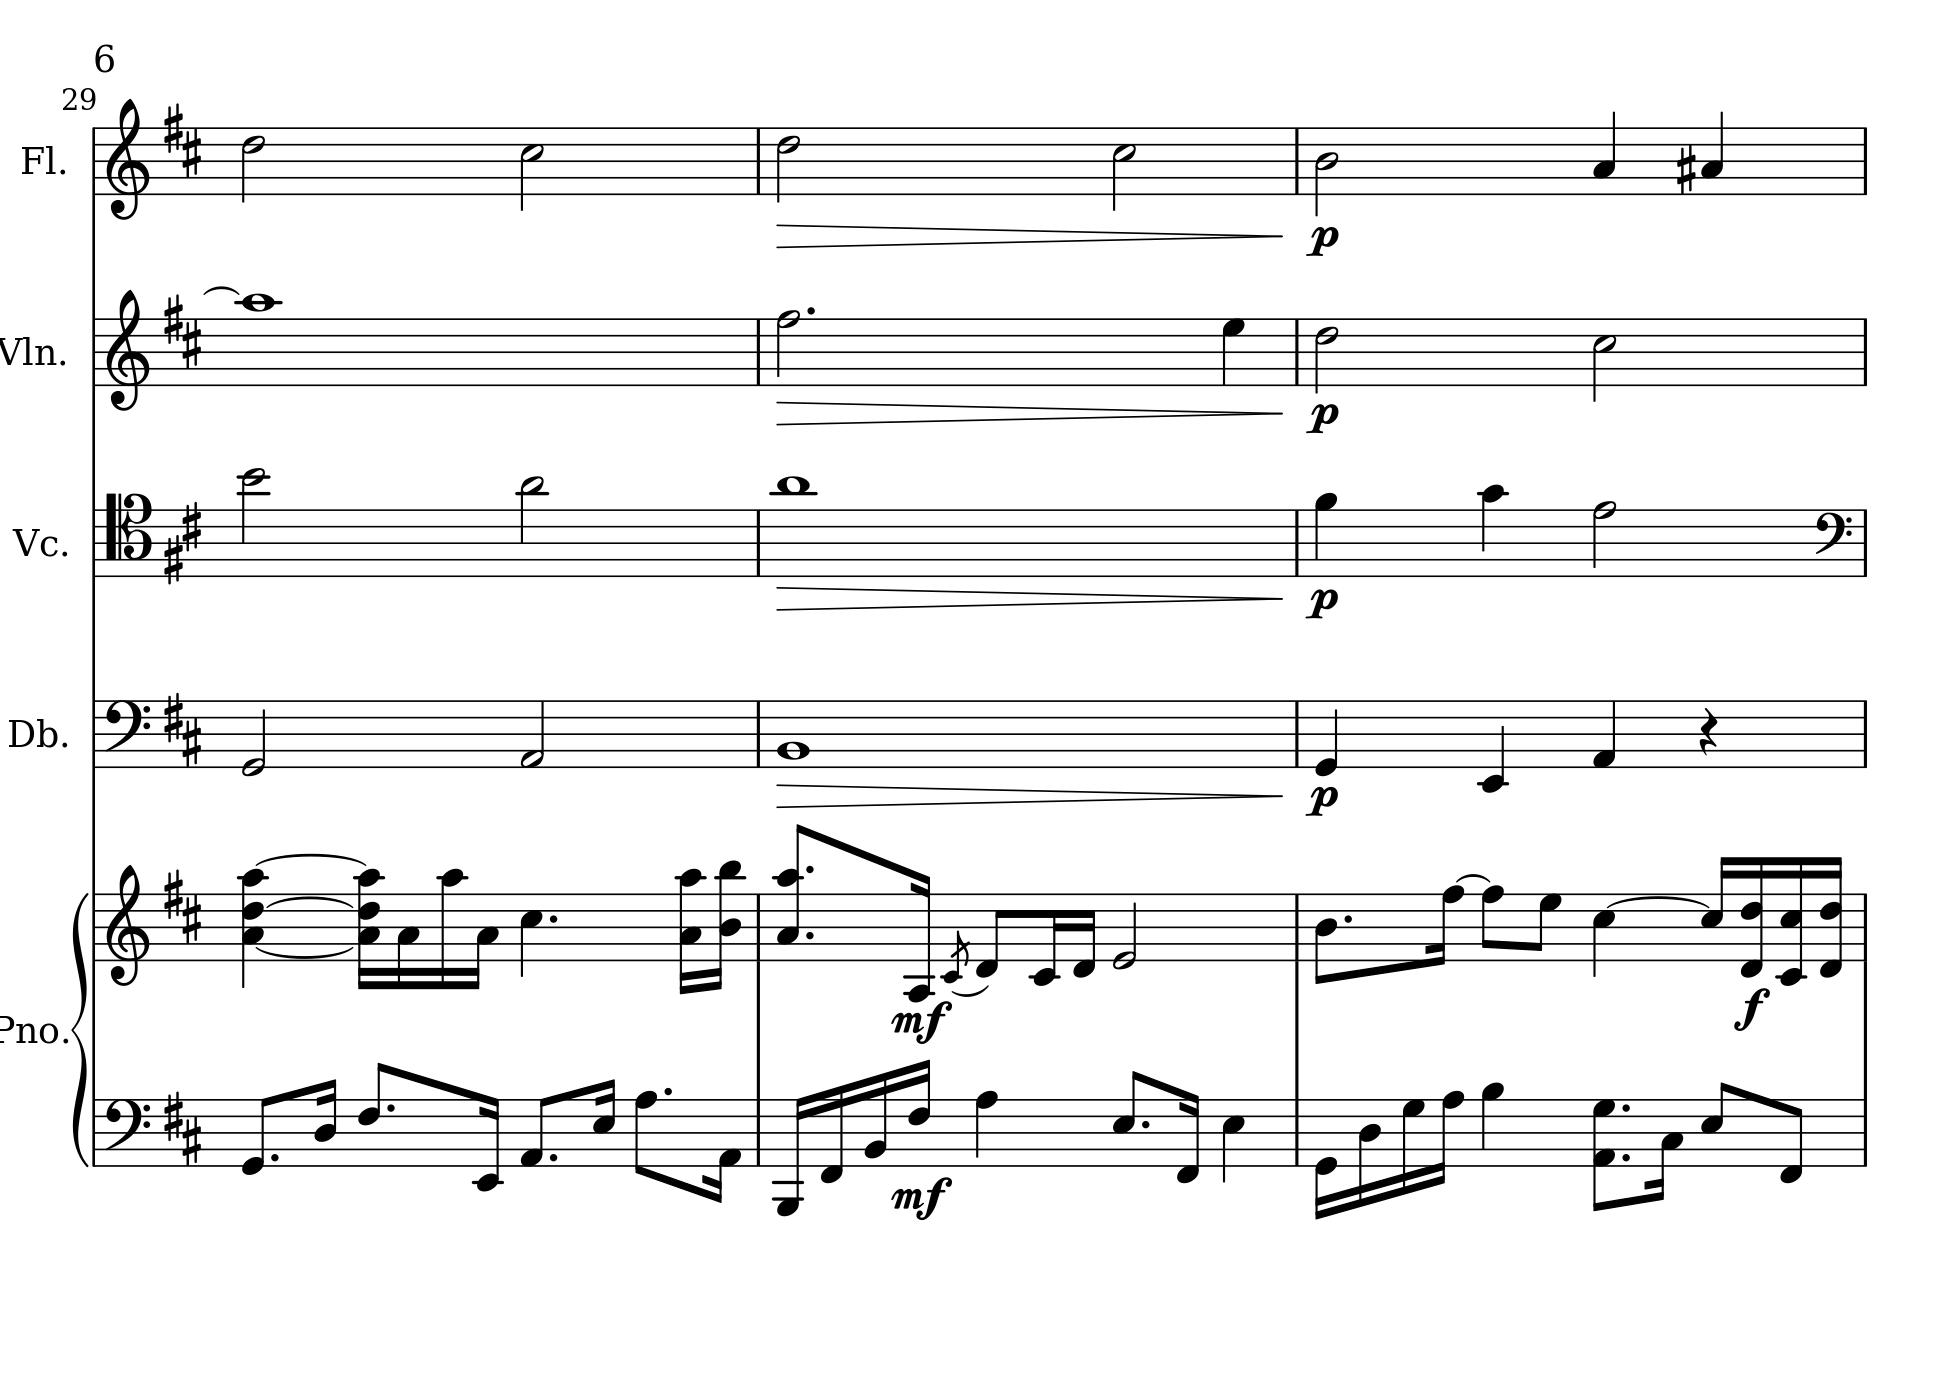16_-1: (817, 1081, 847, 1185), (1176, 1087, 1203, 1185), (1072, 891, 1098, 979)
16_-1_6: (1737, 856, 1767, 979), (1818, 856, 1846, 976)
16_-2: (472, 1092, 502, 1192), (1030, 891, 1062, 985)
16_-2_5: (1773, 856, 1810, 988)
16_-4: (903, 871, 933, 1002)
16_0: (1314, 1095, 1339, 1219)
16_1: (705, 1096, 741, 1203)
16_10: (438, 864, 466, 991)
16_1_7: (1591, 1096, 1617, 1213)
16_2: (861, 1069, 889, 1167)
16_3: (1645, 1096, 1683, 1201), (469, 892, 499, 991), (394, 891, 420, 991)
16_3_10: (675, 865, 706, 994)
16_4: (1356, 1096, 1383, 1206), (312, 1077, 339, 1168)
16_4_11: (711, 859, 744, 988)
16_5: (1699, 856, 1731, 964), (591, 1075, 616, 1168)
16_6: (907, 1057, 933, 1168)
16_7: (1401, 1096, 1425, 1195)
16_8: (1431, 1090, 1464, 1186), (1428, 883, 1464, 967)
1_10: (238, 292, 277, 388)
1_11: (772, 474, 813, 577)
1_2: (774, 696, 811, 769)
2: (60, 85, 78, 111)
2_0: (1111, 889, 1140, 970), (240, 697, 267, 777)
2_1: (519, 697, 549, 772)
2_11: (517, 474, 547, 577)
2_12: (237, 465, 268, 577)
2_4: (1314, 124, 1339, 216)
2_5: (1110, 126, 1137, 213), (517, 126, 544, 211), (1591, 316, 1617, 403)
2_6: (775, 124, 802, 202), (1314, 316, 1341, 394), (240, 124, 265, 204)
2_8: (774, 307, 801, 388), (1591, 496, 1617, 577)
4_-2: (1479, 697, 1507, 793)
4_0: (1314, 697, 1341, 777)
4_1: (1591, 697, 1618, 769)
4_3: (1593, 109, 1618, 196), (1701, 109, 1726, 195)
4_5: (517, 889, 544, 979), (1591, 891, 1617, 979), (1221, 1096, 1245, 1183)
4_7: (1221, 316, 1248, 387)
4_8: (973, 1087, 999, 1168)
4_9: (1479, 1080, 1504, 1168), (1314, 490, 1339, 577)
4_th: (240, 862, 265, 990)
6: (94, 40, 115, 73)
8_-1: (973, 891, 1008, 979), (1777, 1096, 1806, 1186)
8_-5: (772, 1093, 808, 1216)
8_0: (238, 1093, 274, 1176)
8_1: (517, 1093, 553, 1168)
8_10: (1479, 481, 1506, 579)
8_3_10: (772, 822, 808, 963)
8_4: (1314, 891, 1339, 985)
8_5: (1111, 1069, 1144, 1168), (1701, 1078, 1731, 1168)
8_6: (355, 1059, 390, 1168)
8_7: (1530, 891, 1563, 961)
8_8: (633, 1087, 658, 1179), (1480, 883, 1506, 963)
9: (79, 85, 96, 111)
Brace: (70, 889, 88, 1165)
D_S: (162, 499, 202, 580), (163, 99, 202, 178), (162, 292, 202, 367), (163, 1090, 202, 1165)
Dbs: (4, 714, 57, 751)
Diminuendo_hairpin: (775, 399, 1284, 427), (777, 783, 1284, 811), (775, 586, 1284, 613), (777, 223, 1281, 250)
Fclef: (103, 697, 151, 769), (103, 1096, 151, 1167), (1812, 507, 1855, 577)
Fl: (16, 141, 58, 178)
Gclef: (103, 286, 150, 411), (103, 97, 148, 220), (103, 862, 148, 985)
Pno: (1, 1012, 58, 1048)
Rests4: (1698, 706, 1719, 757)
Sharp: (1674, 141, 1698, 195)
Single_barline: (1854, 126, 1875, 193), (1854, 316, 1873, 384), (750, 127, 768, 193), (751, 318, 769, 384), (750, 700, 768, 766), (750, 892, 766, 961), (1288, 1098, 1305, 1165), (1290, 318, 1306, 384), (750, 508, 766, 574), (1857, 700, 1873, 765), (88, 892, 103, 960), (1858, 892, 1873, 960), (1290, 894, 1305, 961), (88, 1098, 103, 1165), (751, 1098, 766, 1165), (1290, 127, 1305, 193), (1290, 508, 1305, 574), (1857, 508, 1872, 574), (1290, 700, 1305, 766), (1857, 1099, 1872, 1165), (87, 126, 100, 195), (87, 318, 100, 385), (88, 699, 102, 766), (87, 508, 100, 574)
Slur: (253, 850, 369, 867), (1606, 895, 1711, 907), (253, 945, 352, 957), (262, 895, 355, 907), (952, 982, 990, 996), (202, 283, 241, 295), (1455, 871, 1491, 883)
Tensor_Cclef: (103, 490, 151, 577)
Vc: (7, 523, 61, 556)
Vln: (1, 330, 57, 372)
dot: (544, 910, 559, 925), (802, 862, 816, 877), (1341, 910, 1354, 925), (804, 927, 817, 942), (384, 1099, 397, 1114), (1620, 1149, 1633, 1164), (804, 303, 817, 316), (661, 1084, 675, 1098), (1138, 1116, 1152, 1129), (267, 1149, 280, 1162), (1620, 1099, 1632, 1114), (547, 1149, 559, 1162)
f: (1731, 985, 1773, 1032)
mf: (889, 1177, 954, 1222), (891, 1000, 954, 1045)
p: (1303, 783, 1341, 820), (1303, 586, 1341, 622), (1305, 223, 1341, 259), (1305, 400, 1341, 436)
